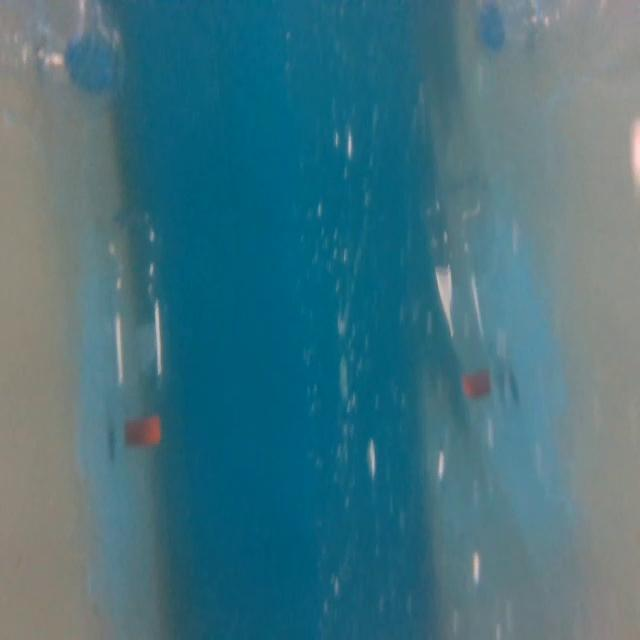plastic bottle: (91, 202, 190, 458)
